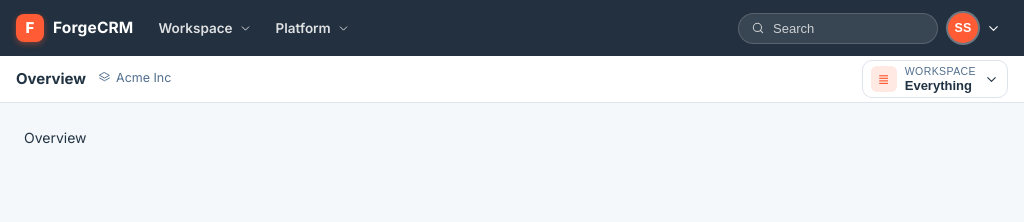
Test case: horizon anatomy › opens product areas as dropdown menus from the dark bar
Expected: the element with class "horizon-subbar" is shown, x1=0 y1=56 x2=1023 y2=103
Click the button "Workspace" at (205, 28), box x1=148 y1=13 x2=263 y2=43
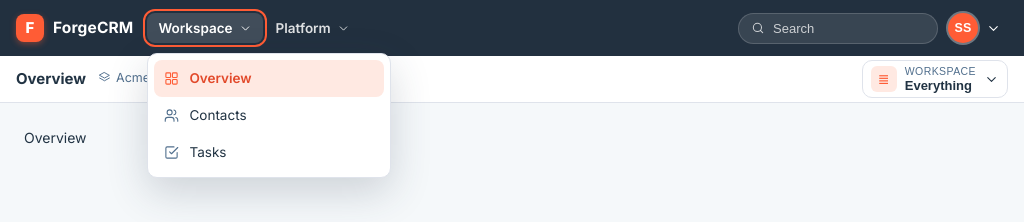
Result: the button "Workspace" is expanded at x1=148 y1=13 x2=263 y2=43
Result: the element with class "horizon-menu__panel" shows "Contacts" at x1=154 y1=97 x2=384 y2=134
